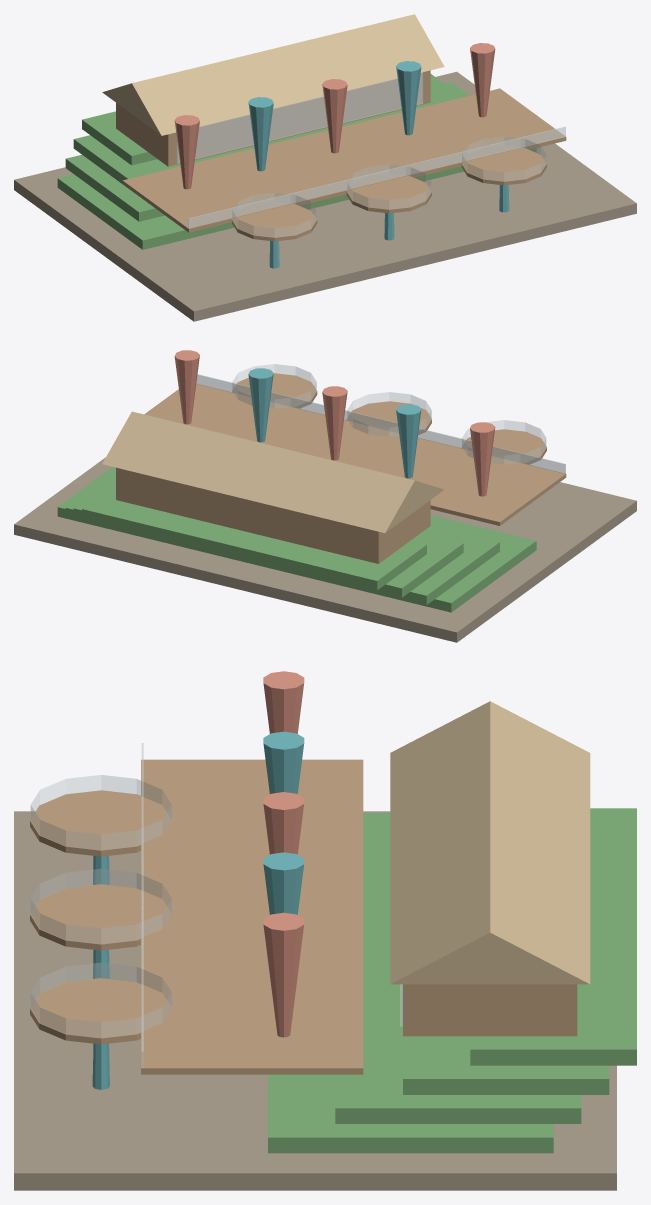
The model's file is lm_47_horizon_coffee_and_me_linh_panorama_deck_kit.glb.
3 views of the same model, one above another, from view 1: azimuth 30°, elevation 25°; view 2: azimuth 150°, elevation 25°; view 3: azimuth 270°, elevation 25° (orthographic). The views are drawn at different scales.
Visible parts, largest first — view 1: lm_47_horizon_coffee_and_me_linh_panorama_deck_kit; view 2: lm_47_horizon_coffee_and_me_linh_panorama_deck_kit; view 3: lm_47_horizon_coffee_and_me_linh_panorama_deck_kit.
Part boxes in pixels (x1=…): lm_47_horizon_coffee_and_me_linh_panorama_deck_kit: x1=14, y1=14, x2=636, y2=321; lm_47_horizon_coffee_and_me_linh_panorama_deck_kit: x1=14, y1=350, x2=636, y2=642; lm_47_horizon_coffee_and_me_linh_panorama_deck_kit: x1=14, y1=671, x2=636, y2=1190.
Size of the model in its own units: 54 by 14.5 by 39.25.
